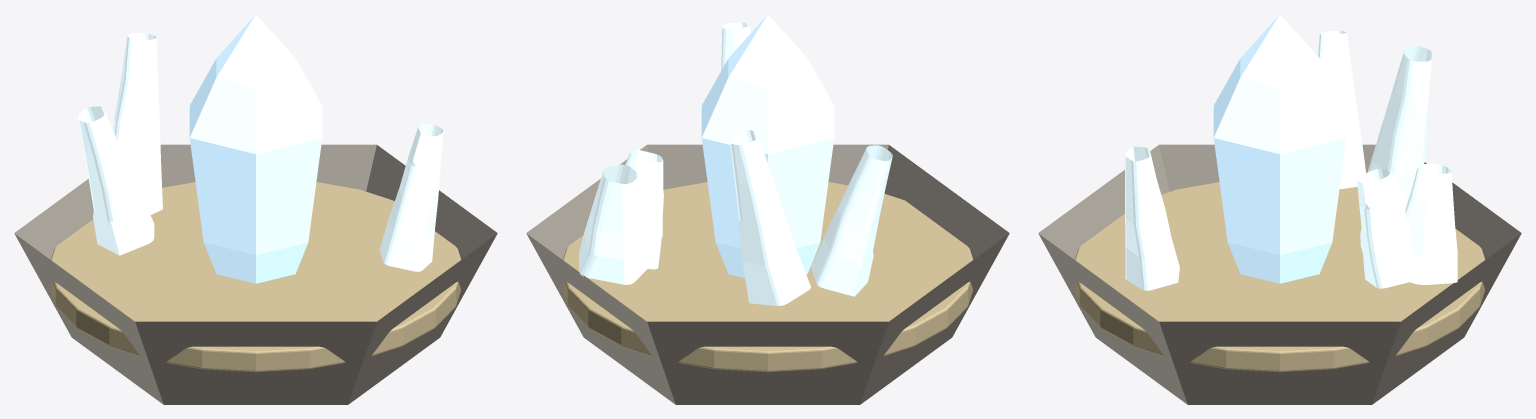
The model's file is 15-Recursos_cristal_ancestral.glb.
3 renders of one model, left to right at view 1: azimuth 30°, elevation 25°; view 2: azimuth 150°, elevation 25°; view 3: azimuth 270°, elevation 25°, orthographic.
Parts seen in each view (by area): view 1: SM_Cristal_Banda, SM_Cristal_Pedestal, SM_Cristal_Central, SM_Cristal_Menor_5, SM_Cristal_Menor_4, SM_Cristal_Menor_2; view 2: SM_Cristal_Pedestal, SM_Cristal_Banda, SM_Cristal_Central, SM_Cristal_Menor_4, SM_Cristal_Menor_5, SM_Cristal_Menor_3, SM_Cristal_Menor_1, SM_Cristal_Menor_2; view 3: SM_Cristal_Pedestal, SM_Cristal_Banda, SM_Cristal_Central, SM_Cristal_Menor_2, SM_Cristal_Menor_4, SM_Cristal_Menor_1, SM_Cristal_Menor_3, SM_Cristal_Menor_5.
Boxes of the visible parts, x1=… form: SM_Cristal_Banda: x1=51, y1=182, x2=460, y2=372; SM_Cristal_Pedestal: x1=14, y1=144, x2=497, y2=404; SM_Cristal_Central: x1=189, y1=14, x2=322, y2=283; SM_Cristal_Menor_5: x1=78, y1=106, x2=154, y2=255; SM_Cristal_Menor_4: x1=113, y1=33, x2=162, y2=214; SM_Cristal_Menor_2: x1=380, y1=124, x2=443, y2=271; SM_Cristal_Pedestal: x1=526, y1=144, x2=1009, y2=404; SM_Cristal_Banda: x1=563, y1=182, x2=972, y2=372; SM_Cristal_Central: x1=701, y1=14, x2=834, y2=277; SM_Cristal_Menor_4: x1=730, y1=130, x2=810, y2=305; SM_Cristal_Menor_5: x1=811, y1=145, x2=892, y2=296; SM_Cristal_Menor_3: x1=579, y1=164, x2=647, y2=284; SM_Cristal_Menor_1: x1=625, y1=150, x2=663, y2=269; SM_Cristal_Menor_2: x1=721, y1=22, x2=750, y2=70; SM_Cristal_Pedestal: x1=1038, y1=144, x2=1521, y2=404; SM_Cristal_Banda: x1=1075, y1=182, x2=1484, y2=372; SM_Cristal_Central: x1=1213, y1=14, x2=1346, y2=283; SM_Cristal_Menor_2: x1=1125, y1=146, x2=1179, y2=290; SM_Cristal_Menor_4: x1=1368, y1=45, x2=1432, y2=199; SM_Cristal_Menor_1: x1=1357, y1=168, x2=1413, y2=288; SM_Cristal_Menor_3: x1=1405, y1=163, x2=1457, y2=284; SM_Cristal_Menor_5: x1=1318, y1=31, x2=1365, y2=188.
Size of the model in its own units: 0.7275 by 0.62 by 0.84.
